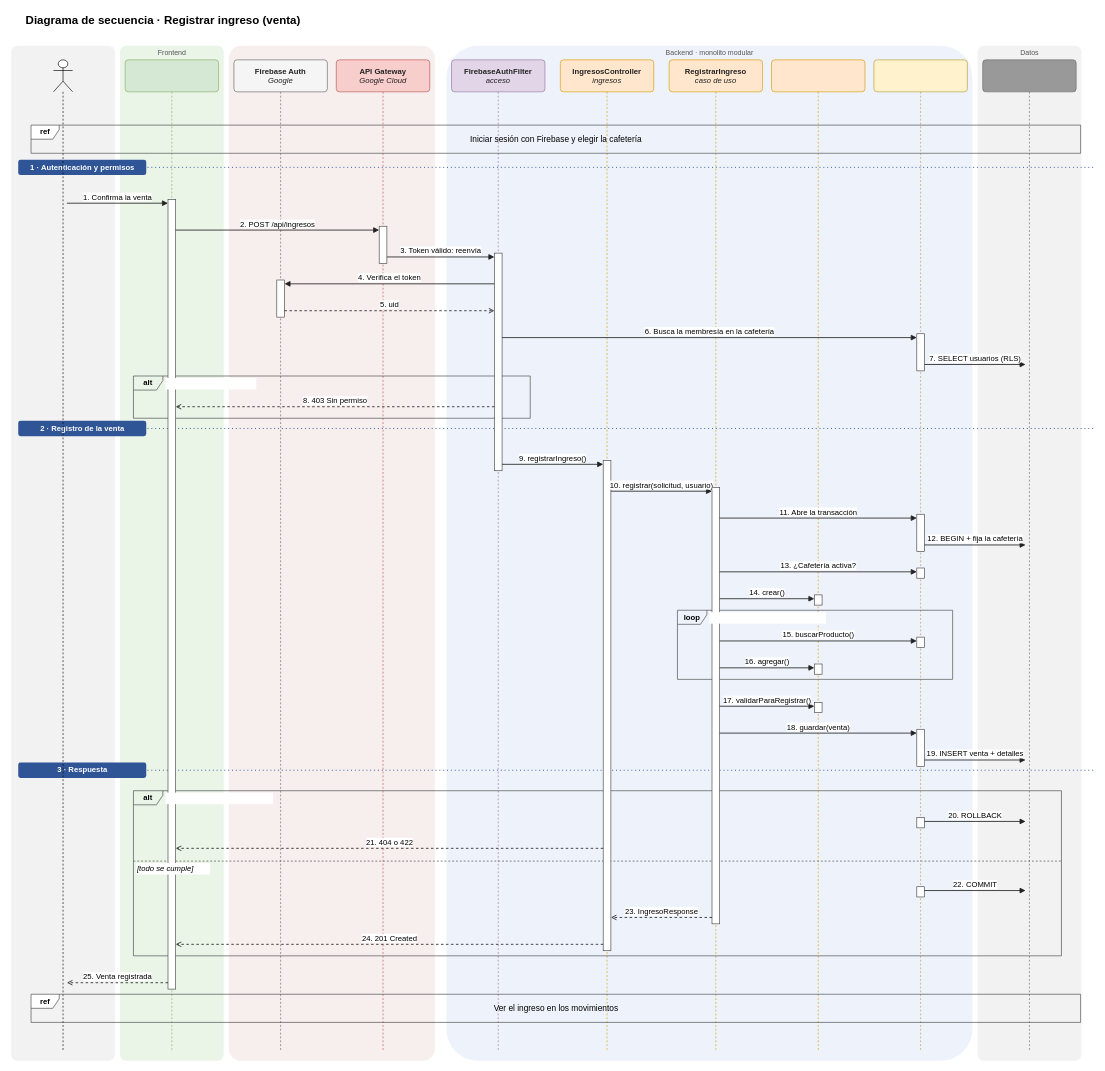
Image size: 1105x1071. Some labels were removed from this diagram. The box of each missing label's shape, as (x1, y1, x2, y2) in pixels:
[cada producto del pedido]: (709, 612, 826, 623)
[no tiene membresía]: (165, 378, 256, 389)
[una regla no se cumple]: (165, 792, 273, 804)
Administrador / Cajero: (53, 59, 73, 1052)
Aplicación web Vue 3: (124, 59, 219, 1052)
PostgreSQL Cloud SQL: (982, 59, 1076, 1052)
Repositorios Pg JDBC: (873, 59, 967, 1052)
Servicios de Google: (228, 45, 435, 1060)
Venta dominio: (771, 59, 865, 1052)
